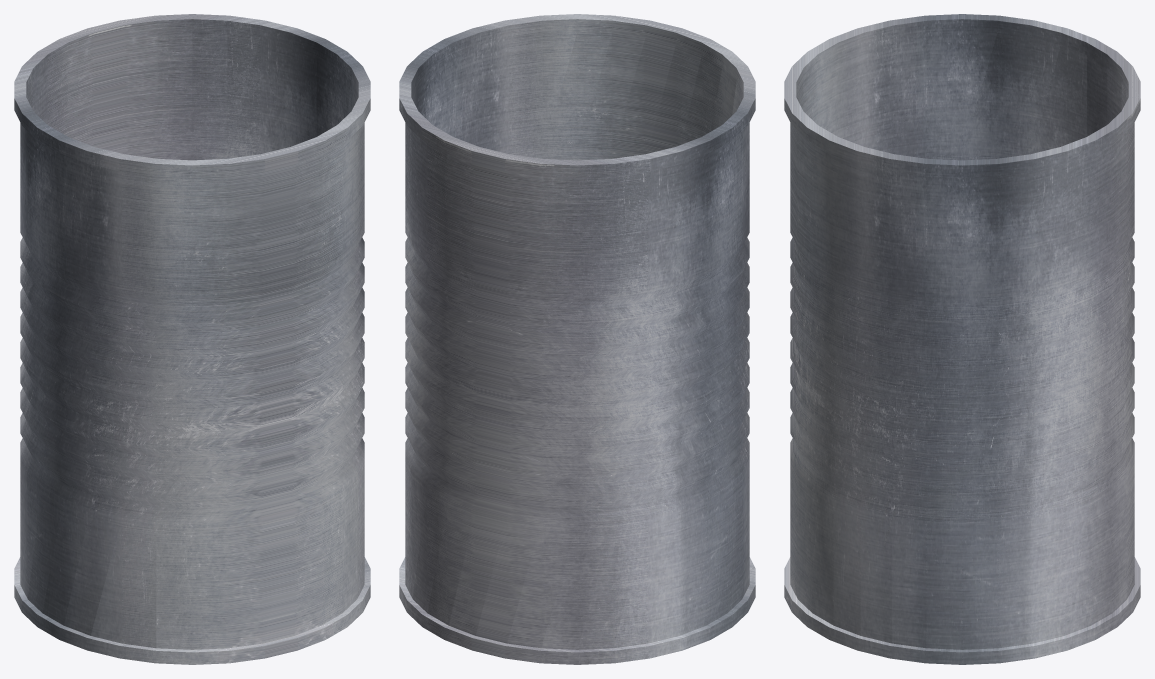
The model's file is maya2sketchfab.fbx.
3 renders of one model, left to right at view 1: azimuth 30°, elevation 25°; view 2: azimuth 150°, elevation 25°; view 3: azimuth 270°, elevation 25°, orthographic.
Visible parts, largest first — view 1: pPipe5; view 2: pPipe5; view 3: pPipe5.
Part boxes in pixels (x1=…): pPipe5: x1=14, y1=14, x2=370, y2=664; pPipe5: x1=399, y1=14, x2=755, y2=664; pPipe5: x1=784, y1=14, x2=1140, y2=664.
Bounding box in the file's own units: 6.12 × 9.41 × 6.09.
Materials: 1 (1 with a texture image).
